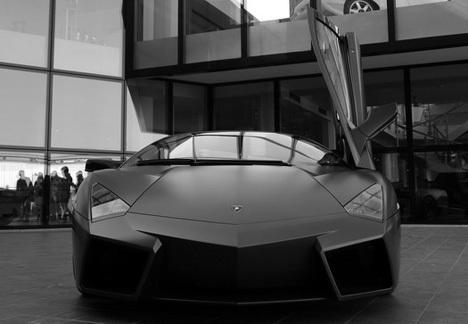car: (71, 129, 403, 312)
